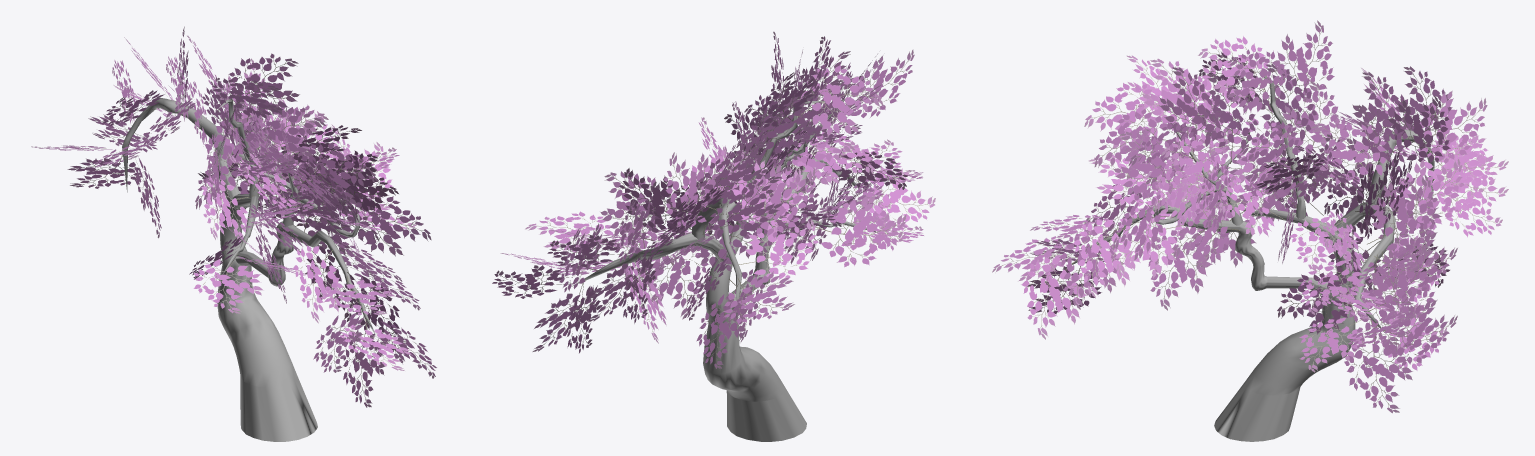
File: tree with leaves.fbx
3 views of the same model, side by side, from view 1: azimuth 30°, elevation 25°; view 2: azimuth 150°, elevation 25°; view 3: azimuth 270°, elevation 25° (orthographic). The views are drawn at different scales.
Visible parts, largest first — view 1: tree:Cylinder.009; view 2: tree:Cylinder.009; view 3: tree:Cylinder.009.
Boxes of the visible parts, x1,y1,x2,y2 form: tree:Cylinder.009: (31,26,436,441); tree:Cylinder.009: (492,31,935,441); tree:Cylinder.009: (992,20,1508,441).
Bounding box in the file's own units: 326 × 356 × 455.
